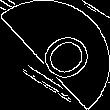O_SW: (20, 22, 90, 88)
